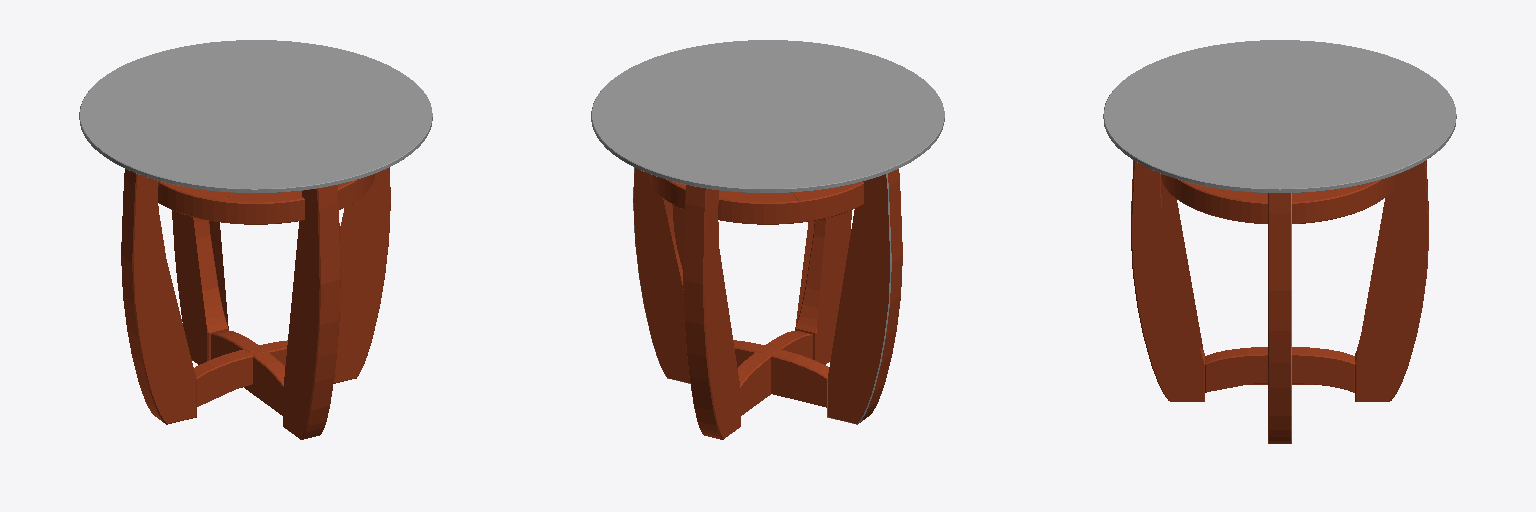
File: table.obj
3 renders of one model, left to right at view 1: azimuth 30°, elevation 25°; view 2: azimuth 150°, elevation 25°; view 3: azimuth 270°, elevation 25°, orthographic.
Parts seen in each view (by area): view 1: TABLE_Extrude_NURBS_3_Rounding_1_Cap_1, TABLE_Extrude_NURBS_2_Rounding_15_Cap_15, TABLE_Extrude_NURBS_4_Rounding_24_Cap_24, TABLE_Extrude_NURBS_4, TABLE_Extrude_NURBS, TABLE_Extrude_NURBS_2, TABLE_Extrude_NURBS_5_Rounding_13_Cap_13, TABLE_Extrude_NURBS_1_Rounding_22_Cap_22, TABLE_Extrude_NURBS_3, TABLE_Extrude_NURBS_Rounding_11_Cap_11, TABLE_Extrude_NURBS_1, TABLE_Extrude_NURBS_4_Rounding_14_Cap_14 (+2 smaller); view 2: TABLE_Extrude_NURBS_3_Rounding_1_Cap_1, TABLE_Extrude_NURBS_2_Rounding_25_Cap_25, TABLE_Extrude_NURBS_4_Rounding_24_Cap_24, TABLE_Extrude_NURBS_4, TABLE_Extrude_NURBS, TABLE_Extrude_NURBS_2, TABLE_Extrude_NURBS_5_Rounding_23_Cap_23, TABLE_Extrude_NURBS_1_Rounding_22_Cap_22, TABLE_Extrude_NURBS_3, TABLE_Extrude_NURBS_Rounding_11_Cap_11, TABLE_Extrude_NURBS_1, TABLE_Extrude_NURBS_5; view 3: TABLE_Extrude_NURBS_3_Rounding_1_Cap_1, TABLE_Extrude_NURBS_4_Rounding_14_Cap_14, TABLE_Extrude_NURBS_2, TABLE_Extrude_NURBS, TABLE_Extrude_NURBS_1_Rounding_12_Cap_12, TABLE_Extrude_NURBS_4_Rounding_24_Cap_24, TABLE_Extrude_NURBS_3, TABLE_Extrude_NURBS_Rounding_11_Cap_11, TABLE_Extrude_NURBS_1, TABLE_Extrude_NURBS_4_Rounding_14.
Part boxes in pixels (x1,y1,x2,y2): TABLE_Extrude_NURBS_3_Rounding_1_Cap_1: (80,40,431,188); TABLE_Extrude_NURBS_2_Rounding_15_Cap_15: (134,168,390,423); TABLE_Extrude_NURBS_4_Rounding_24_Cap_24: (172,189,319,438); TABLE_Extrude_NURBS_4: (193,185,339,439); TABLE_Extrude_NURBS: (158,174,374,223); TABLE_Extrude_NURBS_2: (121,169,163,422); TABLE_Extrude_NURBS_5_Rounding_13_Cap_13: (197,349,286,406); TABLE_Extrude_NURBS_1_Rounding_22_Cap_22: (211,335,282,415); TABLE_Extrude_NURBS_3: (79,116,432,192); TABLE_Extrude_NURBS_Rounding_11_Cap_11: (160,181,351,202); TABLE_Extrude_NURBS_1: (215,331,284,384); TABLE_Extrude_NURBS_4_Rounding_14_Cap_14: (209,221,228,327); TABLE_Extrude_NURBS_3_Rounding_1_Cap_1: (592,40,943,188); TABLE_Extrude_NURBS_2_Rounding_25_Cap_25: (633,168,889,423); TABLE_Extrude_NURBS_4_Rounding_24_Cap_24: (704,189,851,438); TABLE_Extrude_NURBS_4: (684,185,825,439); TABLE_Extrude_NURBS: (649,174,863,223); TABLE_Extrude_NURBS_2: (663,169,902,422); TABLE_Extrude_NURBS_5_Rounding_23_Cap_23: (735,349,826,407); TABLE_Extrude_NURBS_1_Rounding_22_Cap_22: (741,335,812,415); TABLE_Extrude_NURBS_3: (591,118,944,192); TABLE_Extrude_NURBS_Rounding_11_Cap_11: (672,181,862,202); TABLE_Extrude_NURBS_1: (738,331,808,384); TABLE_Extrude_NURBS_5: (733,340,828,377); TABLE_Extrude_NURBS_3_Rounding_1_Cap_1: (1104,40,1455,188); TABLE_Extrude_NURBS_4_Rounding_14_Cap_14: (1132,161,1427,401); TABLE_Extrude_NURBS_2: (1269,193,1290,443); TABLE_Extrude_NURBS: (1161,174,1397,223); TABLE_Extrude_NURBS_1_Rounding_12_Cap_12: (1206,355,1353,391); TABLE_Extrude_NURBS_4_Rounding_24_Cap_24: (1161,179,1360,351); TABLE_Extrude_NURBS_3: (1103,116,1456,192); TABLE_Extrude_NURBS_Rounding_11_Cap_11: (1184,181,1375,201); TABLE_Extrude_NURBS_1: (1205,347,1354,362); TABLE_Extrude_NURBS_4_Rounding_14: (1131,161,1428,401).
Bounding box in the file's own units: 63.63 × 56.3 × 63.63.